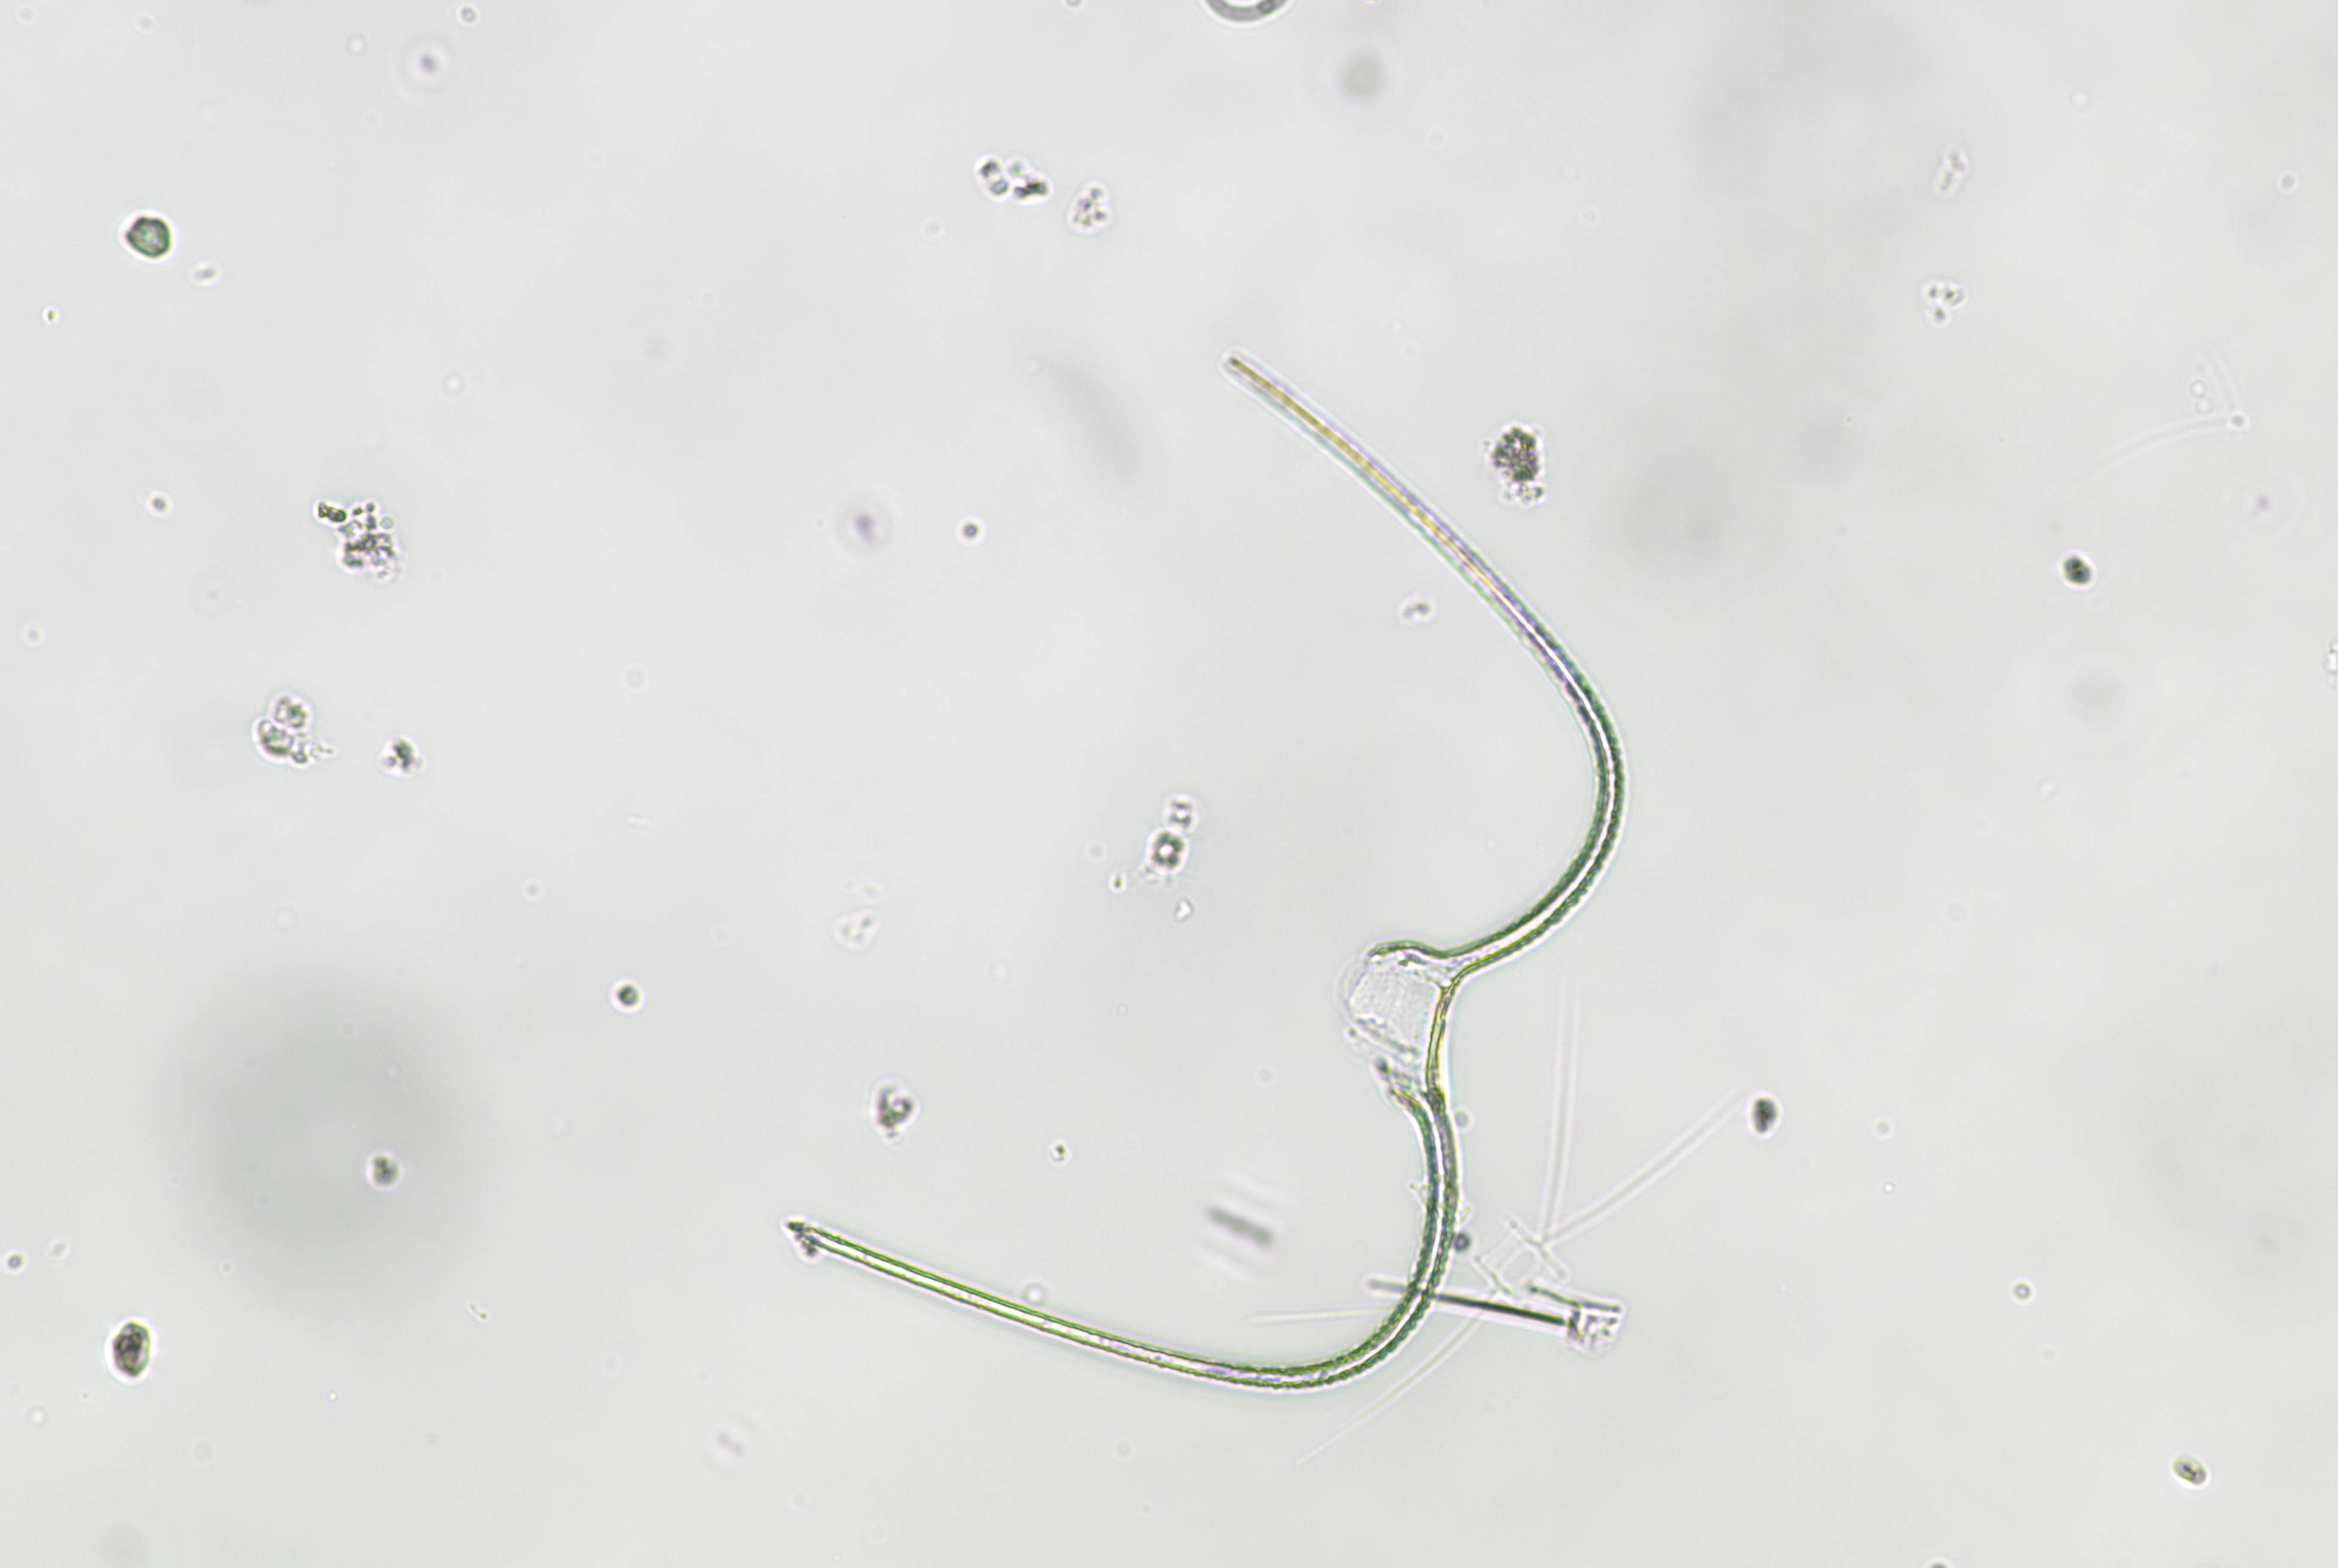ceratium trichoceros: (742, 299, 1636, 1405)
chaetoceros: (1279, 1004, 1747, 1402)
